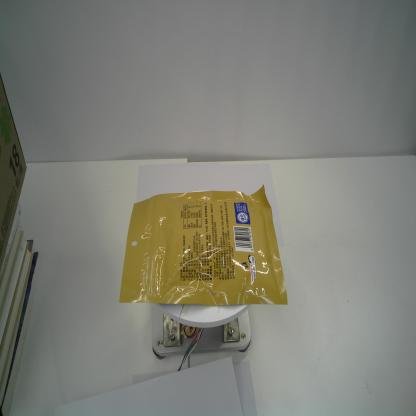Dried Fruit: (119, 183, 288, 306)
